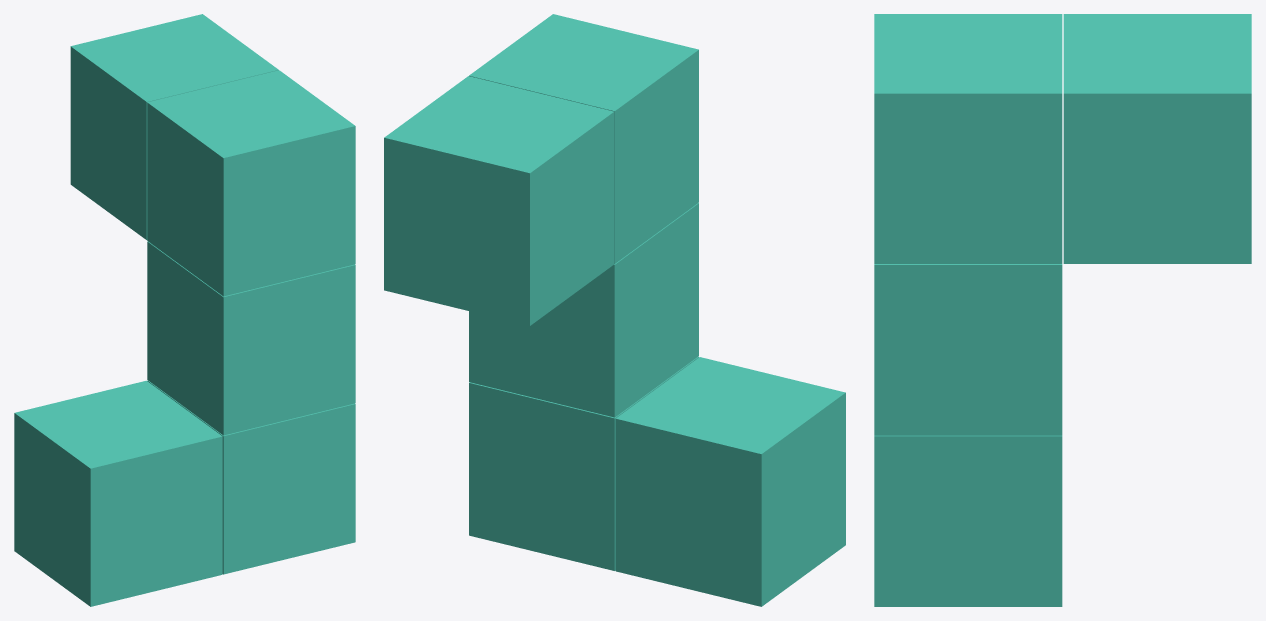
3 renders of one model, left to right at view 1: azimuth 30°, elevation 25°; view 2: azimuth 150°, elevation 25°; view 3: azimuth 270°, elevation 25°, orthographic. The views are drawn at different scales.
Parts seen in each view (by area): view 1: Cube_1, Cube_8, Cube_5, Cube_17, Cube_2; view 2: Cube_17, Cube_1, Cube_5, Cube_8, Cube_2; view 3: Cube_8, Cube_17, Cube_5, Cube_2.
Boxes of the visible parts, x1,y1,x2,y2 form: Cube_1: (14, 380, 222, 606); Cube_8: (147, 70, 355, 296); Cube_5: (147, 241, 355, 435); Cube_17: (70, 14, 278, 239); Cube_2: (147, 380, 355, 574); Cube_17: (384, 76, 614, 325); Cube_1: (615, 357, 845, 606); Cube_5: (469, 203, 698, 417); Cube_8: (469, 14, 698, 263); Cube_2: (469, 356, 698, 570); Cube_8: (874, 14, 1062, 263); Cube_17: (1063, 14, 1251, 263); Cube_5: (874, 264, 1062, 435); Cube_2: (874, 435, 1062, 606).
Bounding box in the file's own units: 108 × 162 × 108.
